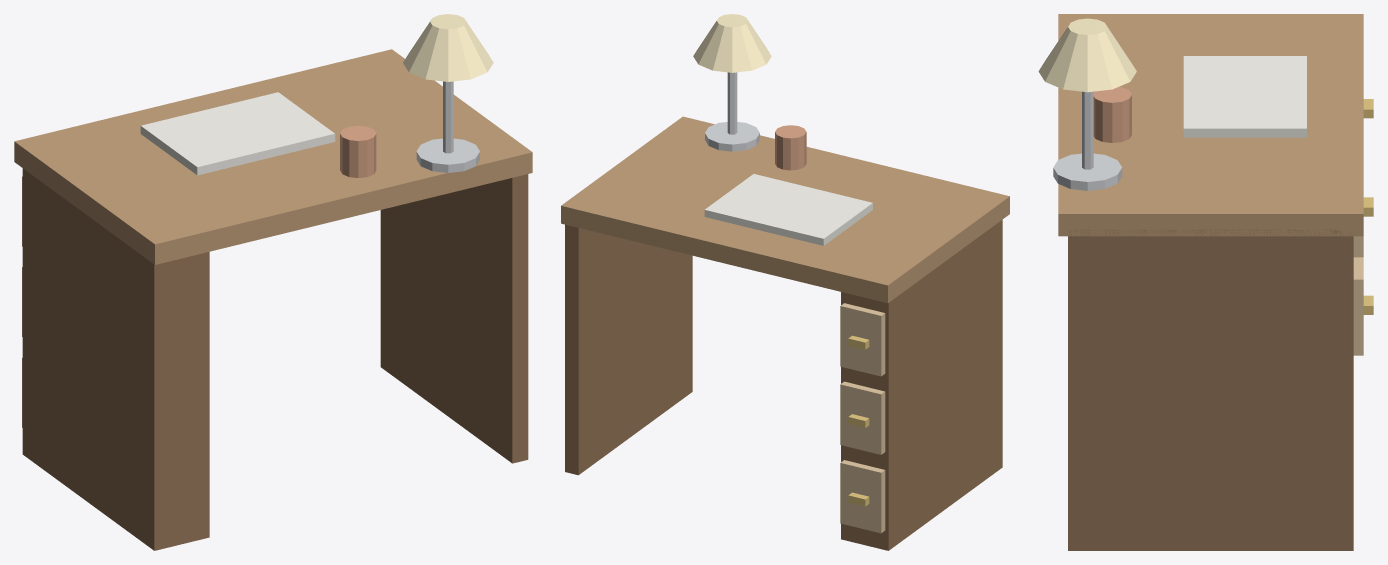
Rendered from desk.glb.
3 views of the same model, side by side, from view 1: azimuth 30°, elevation 25°; view 2: azimuth 150°, elevation 25°; view 3: azimuth 270°, elevation 25° (orthographic). The views are drawn at different scales.
Parts seen in each view (by area): view 1: desk; view 2: desk; view 3: desk.
Boxes of the visible parts, box(x1,y1,x2,y2) form: desk: box(14, 14, 532, 550); desk: box(561, 14, 1009, 550); desk: box(1038, 14, 1373, 550).
Bounding box in the file's own units: 0.96 × 1.09 × 0.68.
